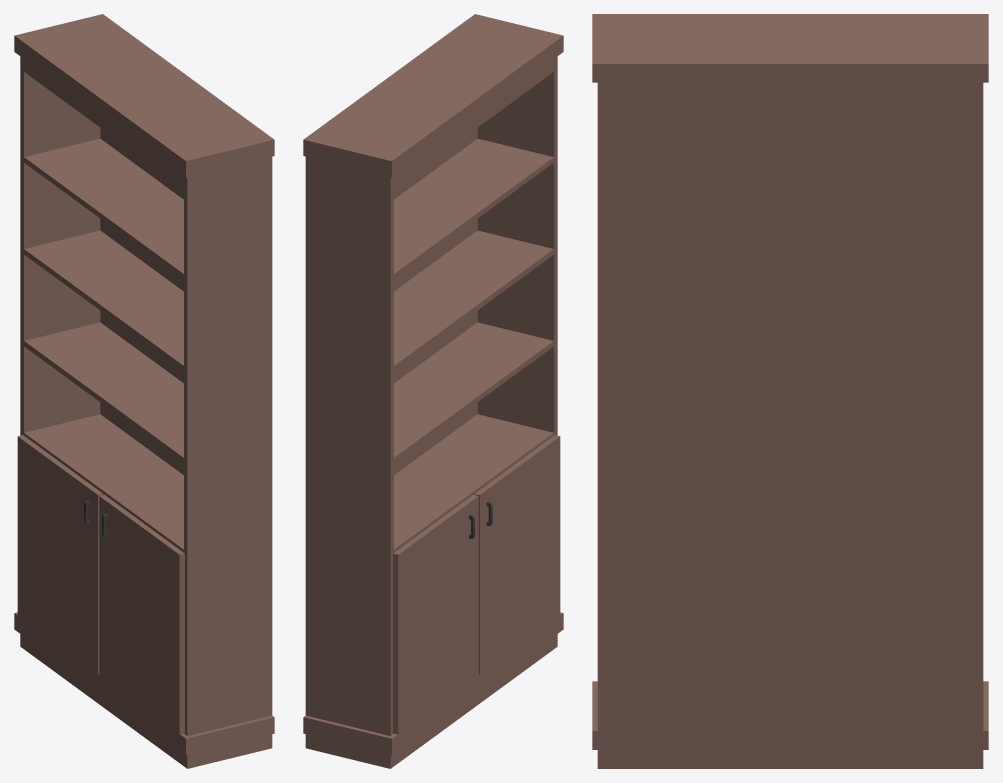
File: Bookcase08.fbx
3 renders of one model, left to right at view 1: azimuth 30°, elevation 25°; view 2: azimuth 150°, elevation 25°; view 3: azimuth 270°, elevation 25°, orthographic. The views are drawn at different scales.
Visible parts, largest first — view 1: Bookcase08, Cube.029, Cube.030; view 2: Bookcase08, Cube.030, Cube.029; view 3: Bookcase08.
Part boxes in pixels (bbox=[...]): Bookcase08: bbox=[14, 14, 274, 768]; Cube.029: bbox=[99, 494, 184, 734]; Cube.030: bbox=[17, 435, 103, 674]; Bookcase08: bbox=[303, 14, 563, 768]; Cube.030: bbox=[393, 494, 478, 734]; Cube.029: bbox=[474, 435, 560, 674]; Bookcase08: bbox=[592, 14, 988, 768].
Size of the model in its own units: 0.3002 by 0.9482 by 1.86.
